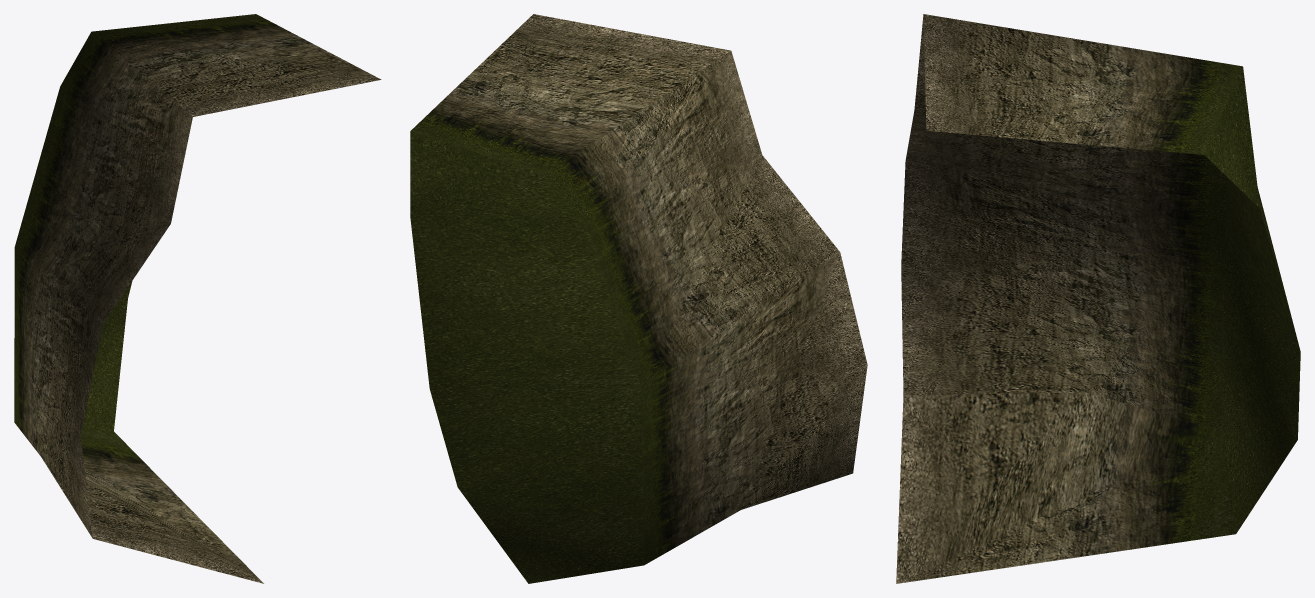
Rendered from MEP_Edge_01_k.fbx.
3 renders of one model, left to right at view 1: azimuth 30°, elevation 25°; view 2: azimuth 150°, elevation 25°; view 3: azimuth 270°, elevation 25°, orthographic. The views are drawn at different scales.
Parts seen in each view (by area): view 1: MEP_Edge_01_k; view 2: MEP_Edge_01_k; view 3: MEP_Edge_01_k.
Boxes of the visible parts, box(x1,y1,x2,y2) form: MEP_Edge_01_k: box(14, 14, 381, 583); MEP_Edge_01_k: box(410, 14, 867, 583); MEP_Edge_01_k: box(896, 14, 1300, 583).
Size of the model in its own units: 5.91 by 8.55 by 5.84.
Materials: 1 (1 with a texture image).
